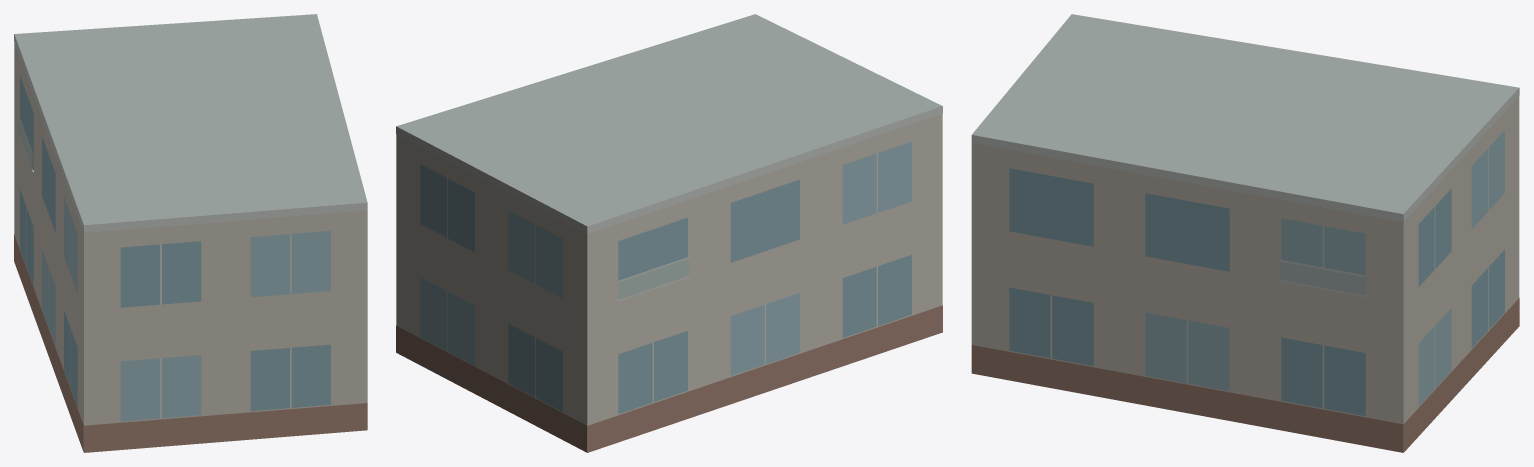
The model's file is survey-upis-32934197.glb.
3 renders of one model, left to right at view 1: azimuth 30°, elevation 25°; view 2: azimuth 150°, elevation 25°; view 3: azimuth 270°, elevation 25°, orthographic. The views are drawn at different scales.
Parts seen in each view (by area): view 1: survey-upis-32934197.tmp; view 2: survey-upis-32934197.tmp; view 3: survey-upis-32934197.tmp.
Boxes of the visible parts, box(x1,y1,x2,y2) form: survey-upis-32934197.tmp: box(14, 14, 367, 452); survey-upis-32934197.tmp: box(396, 14, 942, 452); survey-upis-32934197.tmp: box(971, 14, 1519, 452).
Bounding box in the file's own units: 12.96 × 7.2 × 14.98.
